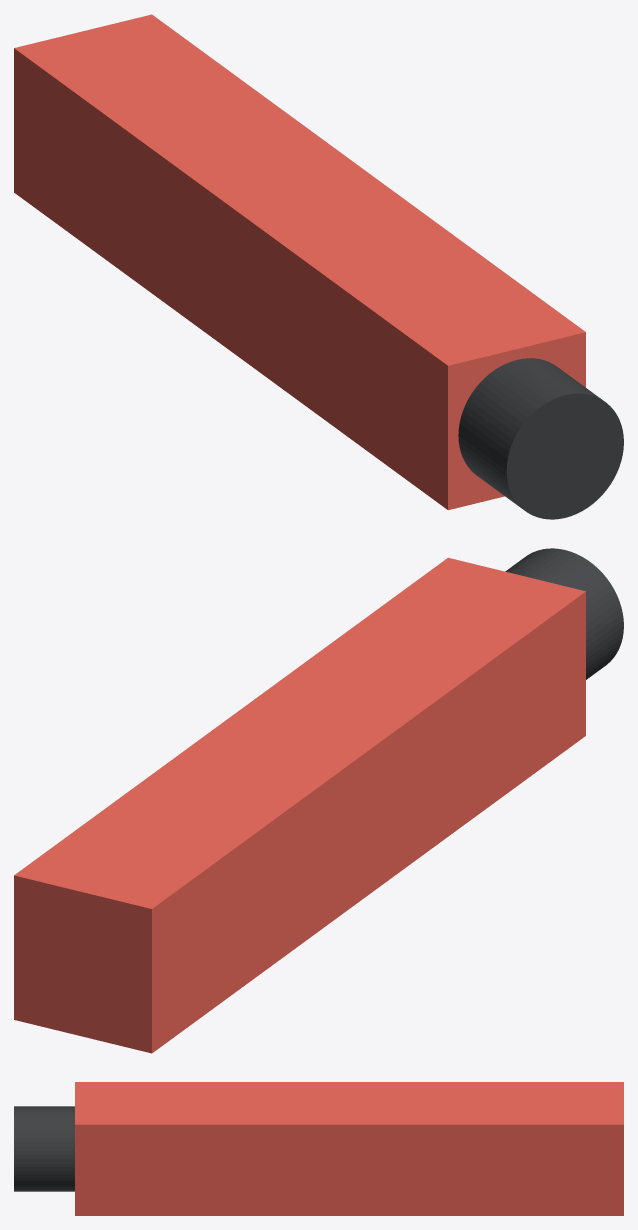
3 views of the same model, one above another, from view 1: azimuth 30°, elevation 25°; view 2: azimuth 150°, elevation 25°; view 3: azimuth 270°, elevation 25° (orthographic). The views are drawn at different scales.
Visible parts, largest first — view 1: sx5_10_body_0, sx5_10_body_1; view 2: sx5_10_body_0, sx5_10_body_1; view 3: sx5_10_body_0, sx5_10_body_1.
Boxes of the visible parts, x1,y1,x2,y2 form: sx5_10_body_0: [14, 14, 585, 510]; sx5_10_body_1: [458, 358, 623, 519]; sx5_10_body_0: [14, 557, 585, 1053]; sx5_10_body_1: [505, 548, 623, 679]; sx5_10_body_0: [75, 1082, 623, 1215]; sx5_10_body_1: [14, 1106, 74, 1191].
Size of the model in its own units: 0.019 by 0.019 by 0.115.
